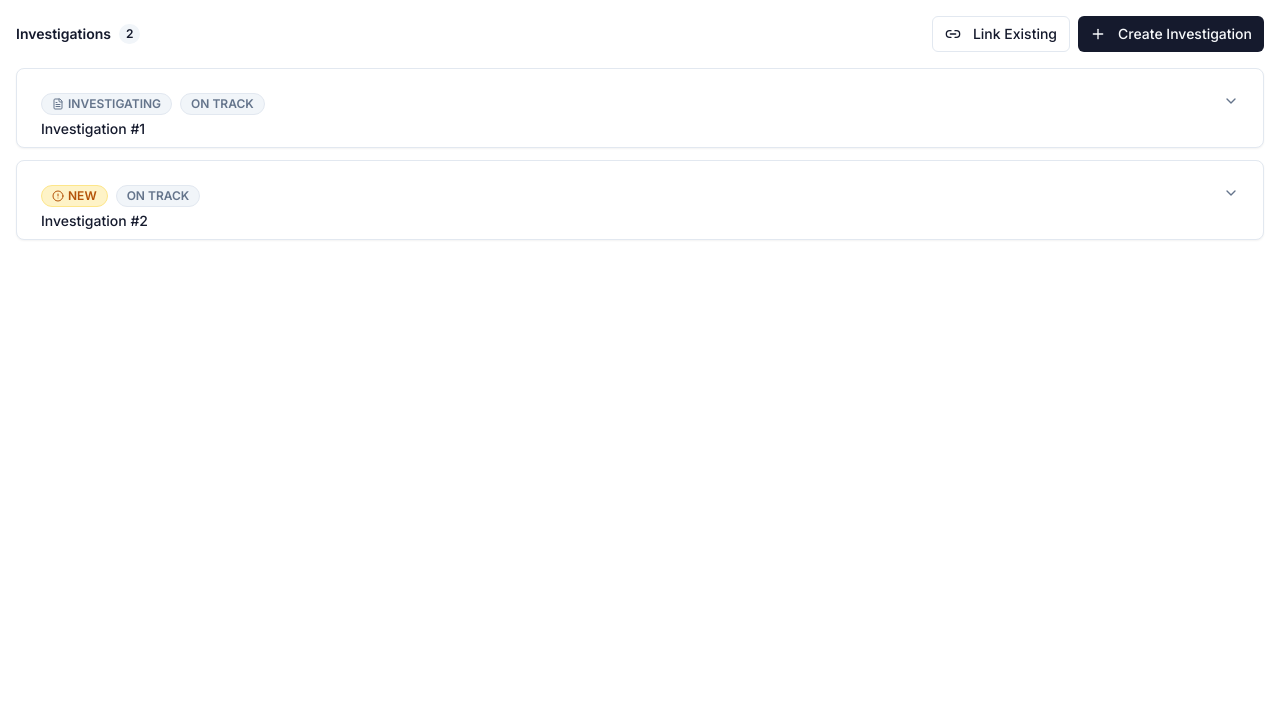
CaseInvestigationsPanel › opens create dialog when Create button is clicked
Click the button with test id "create-investigation-button" at {"x": 1171, "y": 34}, box [1078,16,1264,52]
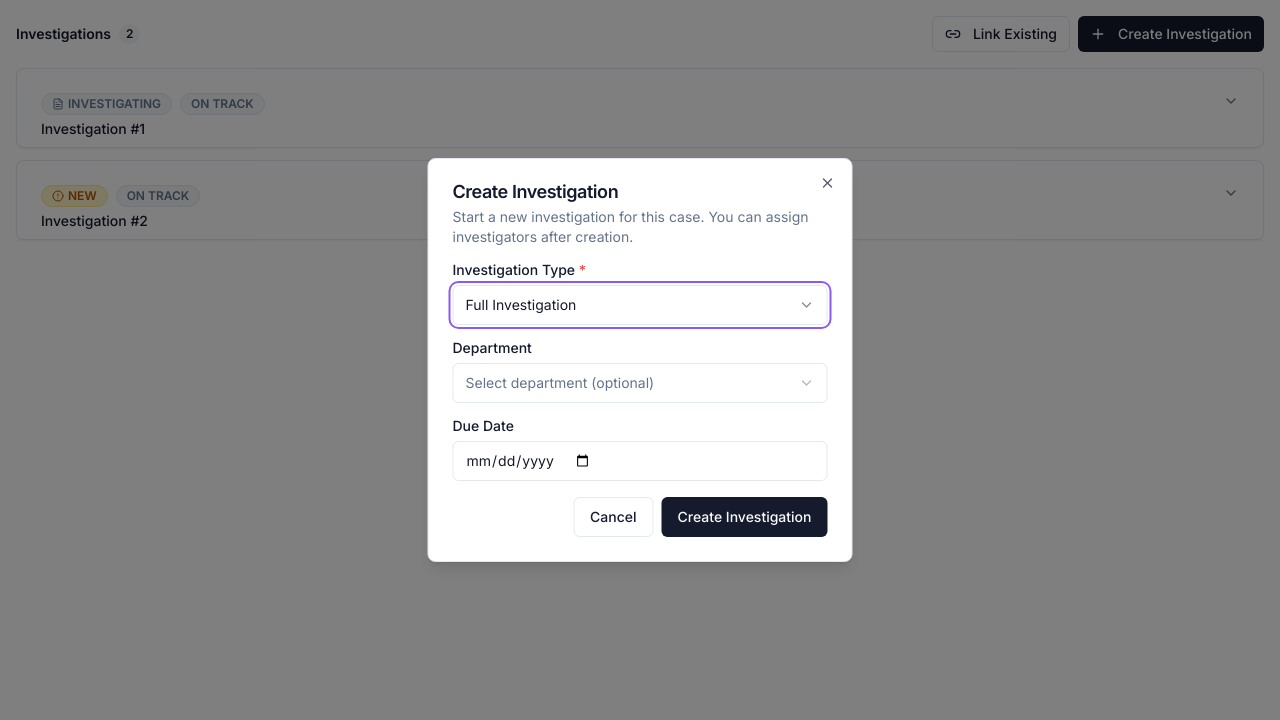
Expected: the dialog is shown, [428,158,852,562]
Expected: the text "Start a new investigation for this case" is shown, [452,208,809,245]
